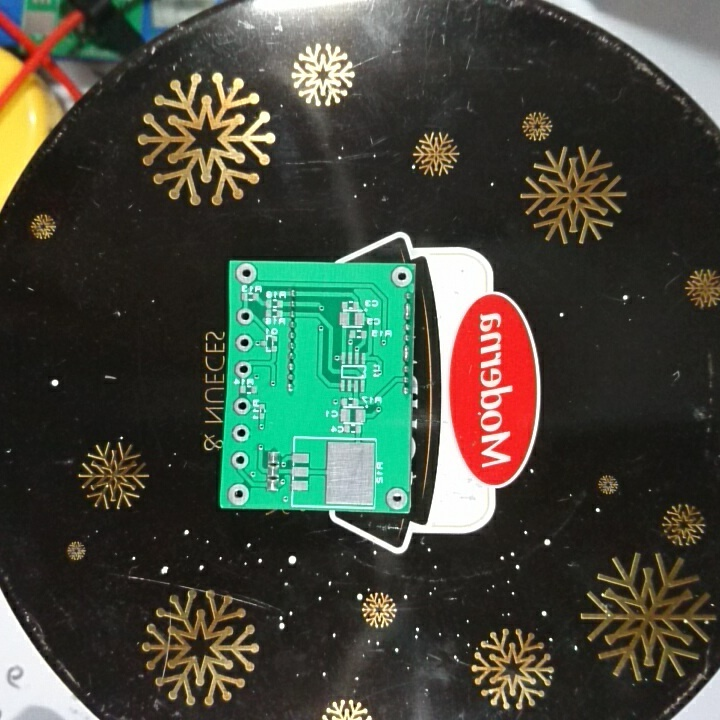F: (383, 484, 409, 511), (389, 263, 414, 289), (233, 262, 260, 286), (231, 422, 254, 446), (227, 482, 250, 506), (229, 449, 251, 472), (232, 395, 253, 418), (234, 332, 254, 355), (234, 357, 253, 381), (234, 306, 256, 326)
P: (400, 342, 413, 363), (402, 301, 412, 322)
